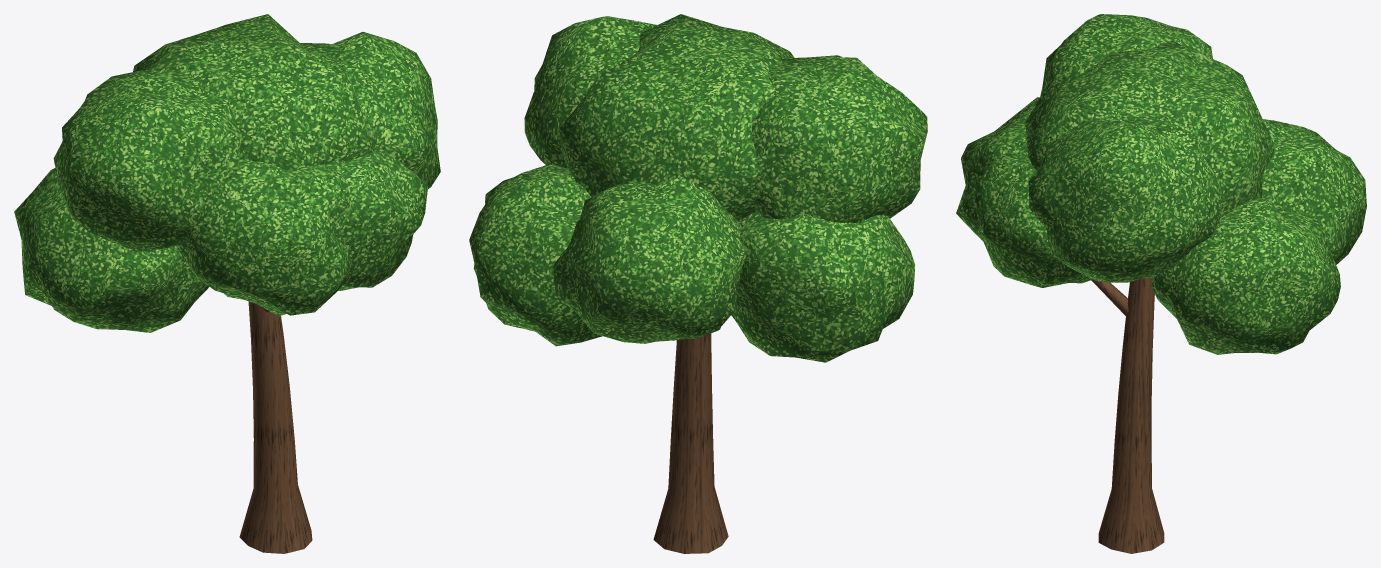
File: tree_a.glb
The picture shows the model from 3 angles, left to right: view 1: azimuth 30°, elevation 25°; view 2: azimuth 150°, elevation 25°; view 3: azimuth 270°, elevation 25°; orthographic projection. The views are drawn at different scales.
Parts seen in each view (by area): view 1: tree_a; view 2: tree_a; view 3: tree_a.
Part boxes in pixels (left/top/right/bottom): tree_a: left=14, top=14, right=440, bottom=553; tree_a: left=469, top=14, right=927, bottom=553; tree_a: left=956, top=14, right=1366, bottom=553.
Size of the model in its own units: 5.35 by 6.66 by 5.35.
2 materials, 2 textured.
